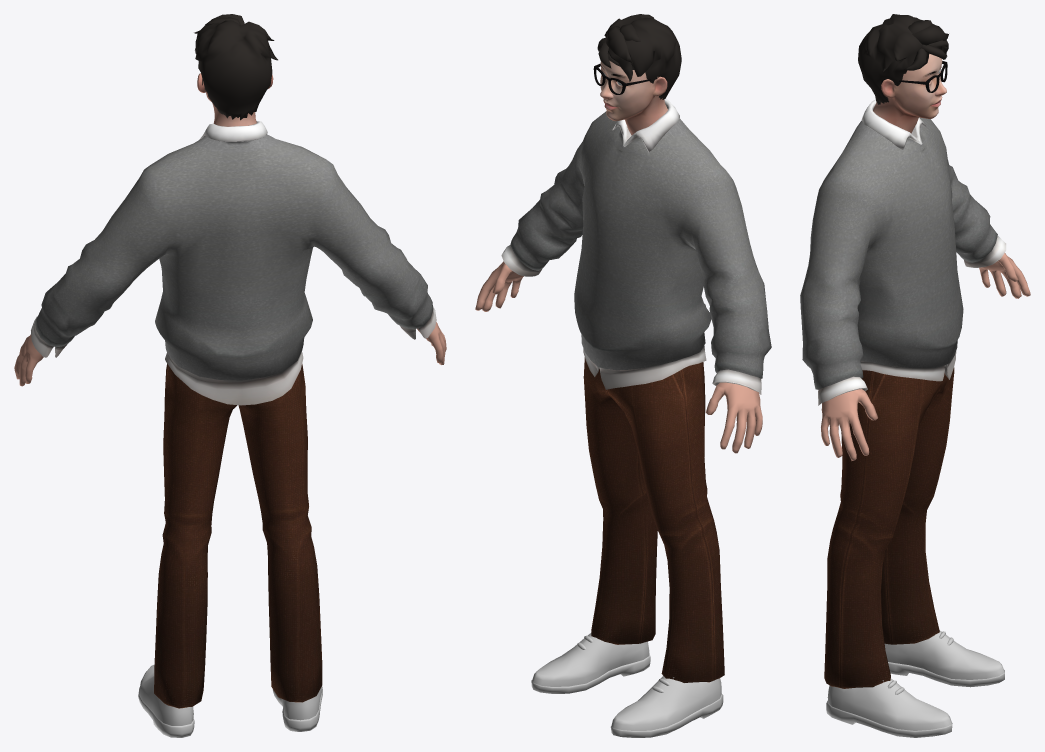
File: robot_car_me.gltf
3 renders of one model, left to right at view 1: azimuth 30°, elevation 25°; view 2: azimuth 150°, elevation 25°; view 3: azimuth 270°, elevation 25°, orthographic.
Parts seen in each view (by area): view 1: Wolf3D_Outfit_Top.001, Wolf3D_Outfit_Bottom.001, Wolf3D_Hair.001, Wolf3D_Outfit_Footwear.001, Wolf3D_Body.001; view 2: Wolf3D_Outfit_Top.001, Wolf3D_Outfit_Bottom.001, Wolf3D_Outfit_Footwear.001, Wolf3D_Hair.001, Wolf3D_Body.001, Wolf3D_Head.001; view 3: Wolf3D_Outfit_Top.001, Wolf3D_Outfit_Bottom.001, Wolf3D_Outfit_Footwear.001, Wolf3D_Hair.001, Wolf3D_Body.001, Wolf3D_Head.001.
Boxes of the visible parts, x1,y1,x2,y2 form: Wolf3D_Outfit_Top.001: (31,121,436,405); Wolf3D_Outfit_Bottom.001: (154,364,322,708); Wolf3D_Hair.001: (194,14,277,120); Wolf3D_Outfit_Footwear.001: (138,664,322,737); Wolf3D_Body.001: (14,322,446,386); Wolf3D_Outfit_Top.001: (501,98,771,394); Wolf3D_Outfit_Bottom.001: (583,357,724,682); Wolf3D_Outfit_Footwear.001: (531,633,723,737); Wolf3D_Hair.001: (597,14,681,99); Wolf3D_Body.001: (475,261,762,453); Wolf3D_Head.001: (600,60,667,135); Wolf3D_Outfit_Top.001: (800,99,1006,405); Wolf3D_Outfit_Bottom.001: (824,367,954,688); Wolf3D_Outfit_Footwear.001: (826,630,1004,737); Wolf3D_Hair.001: (858,14,948,104); Wolf3D_Body.001: (821,253,1030,460); Wolf3D_Head.001: (873,54,946,133).
Bounding box in the file's own units: 0.9932 × 1.86 × 0.5742.
